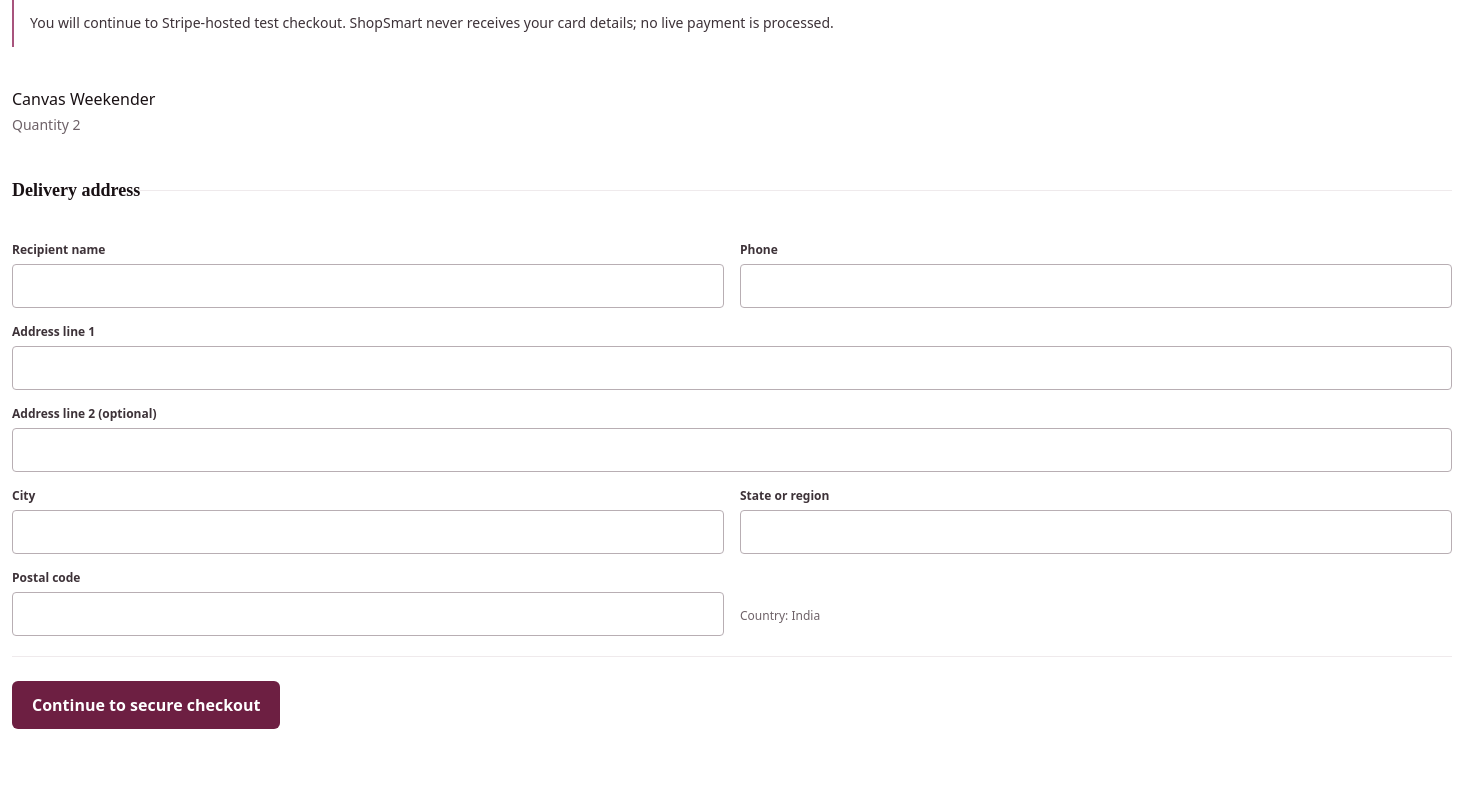
Test: CheckoutForm › shows checkout failures and allows retrying
Type "Portfolio Shopper" into the field labelled "Recipient name". click: x=368, y=286
box: [12,264,724,308]
Type "+91 98765 43210" into the field labelled "Phone". click: x=1096, y=286
box: [740,264,1452,308]
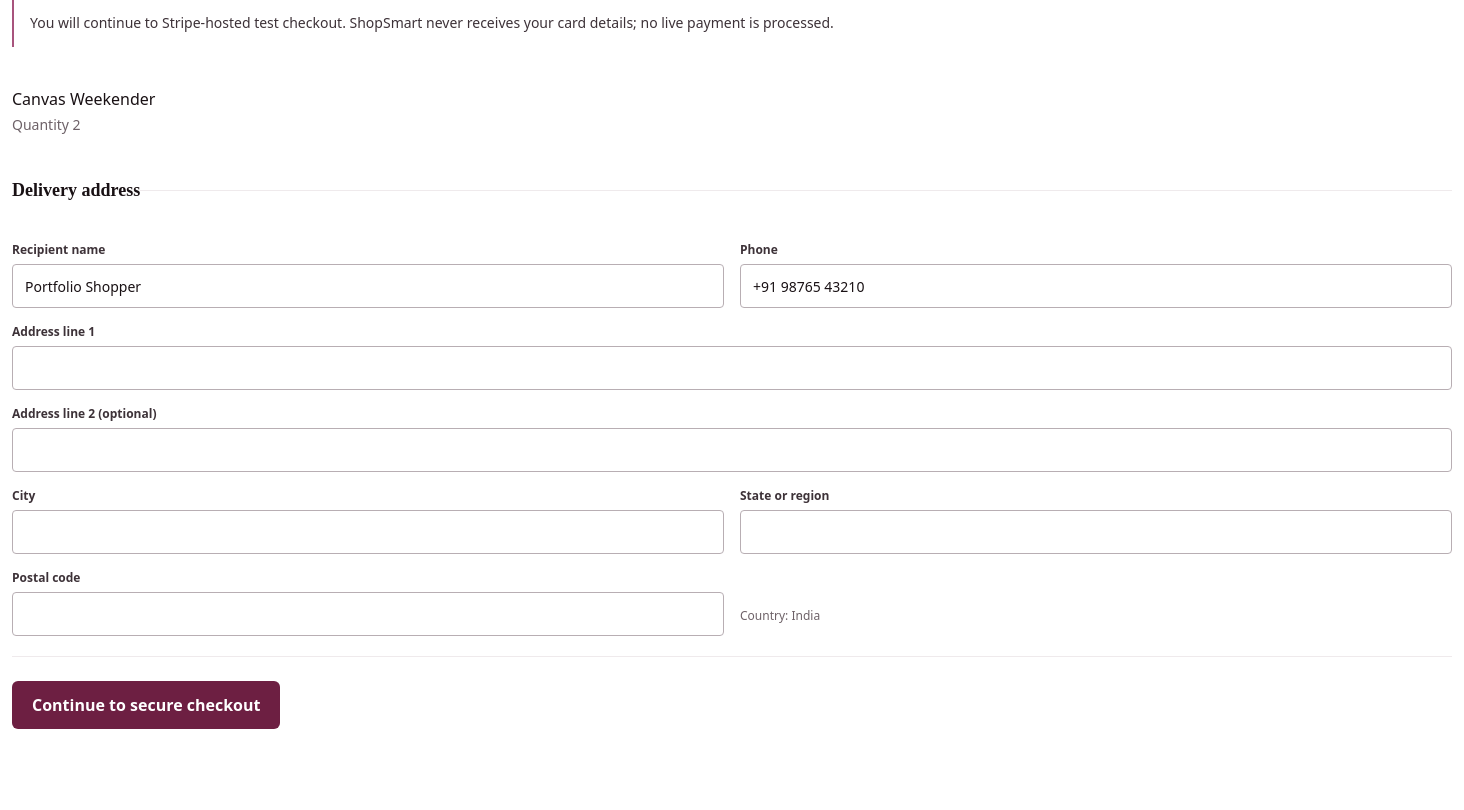
Type "12 Example Road" into the field labelled "Address line 1". click: x=732, y=368
box: [12,346,1452,390]
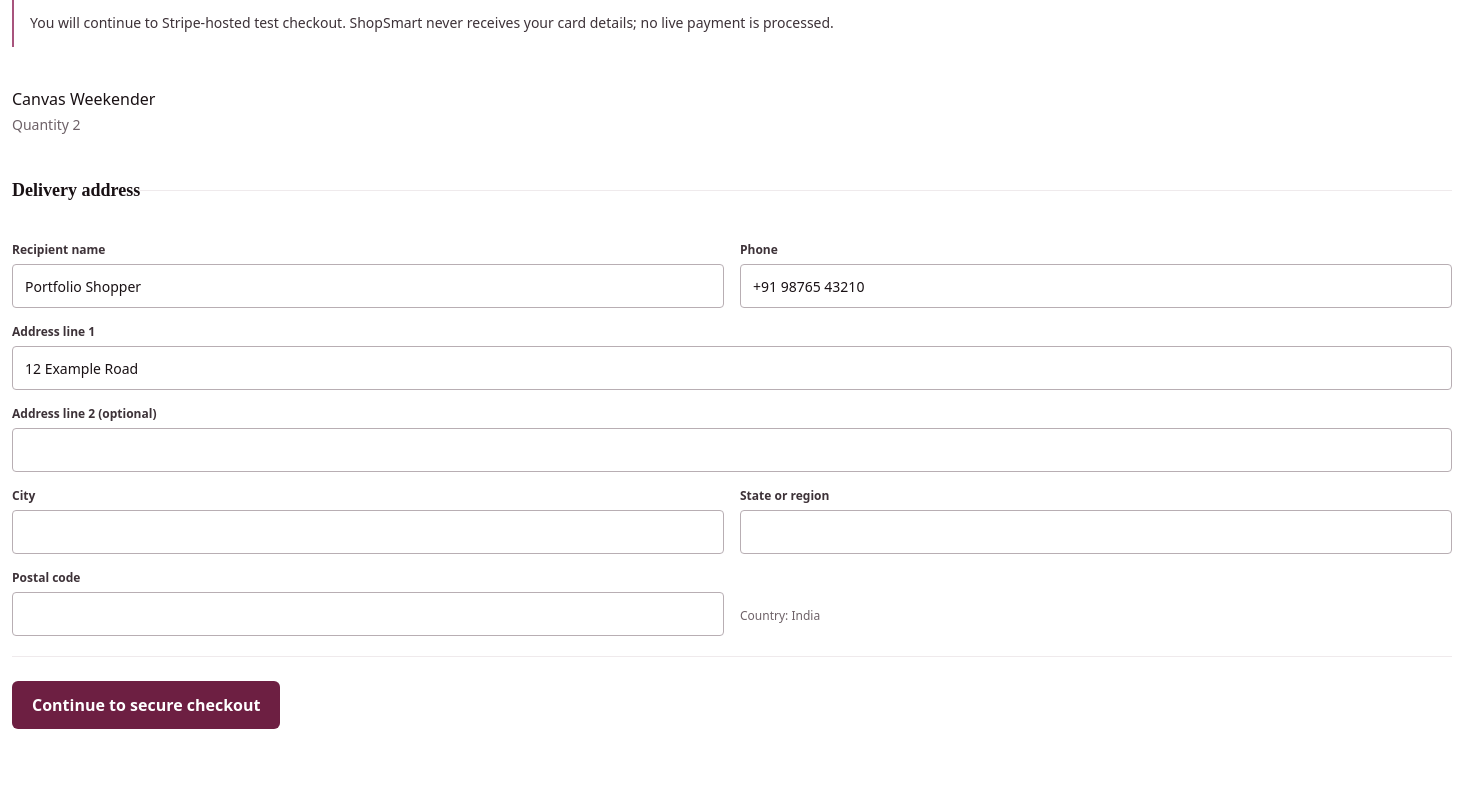
Type "Bengaluru" into the field labelled "City". click: x=368, y=532
box: [12,510,724,554]
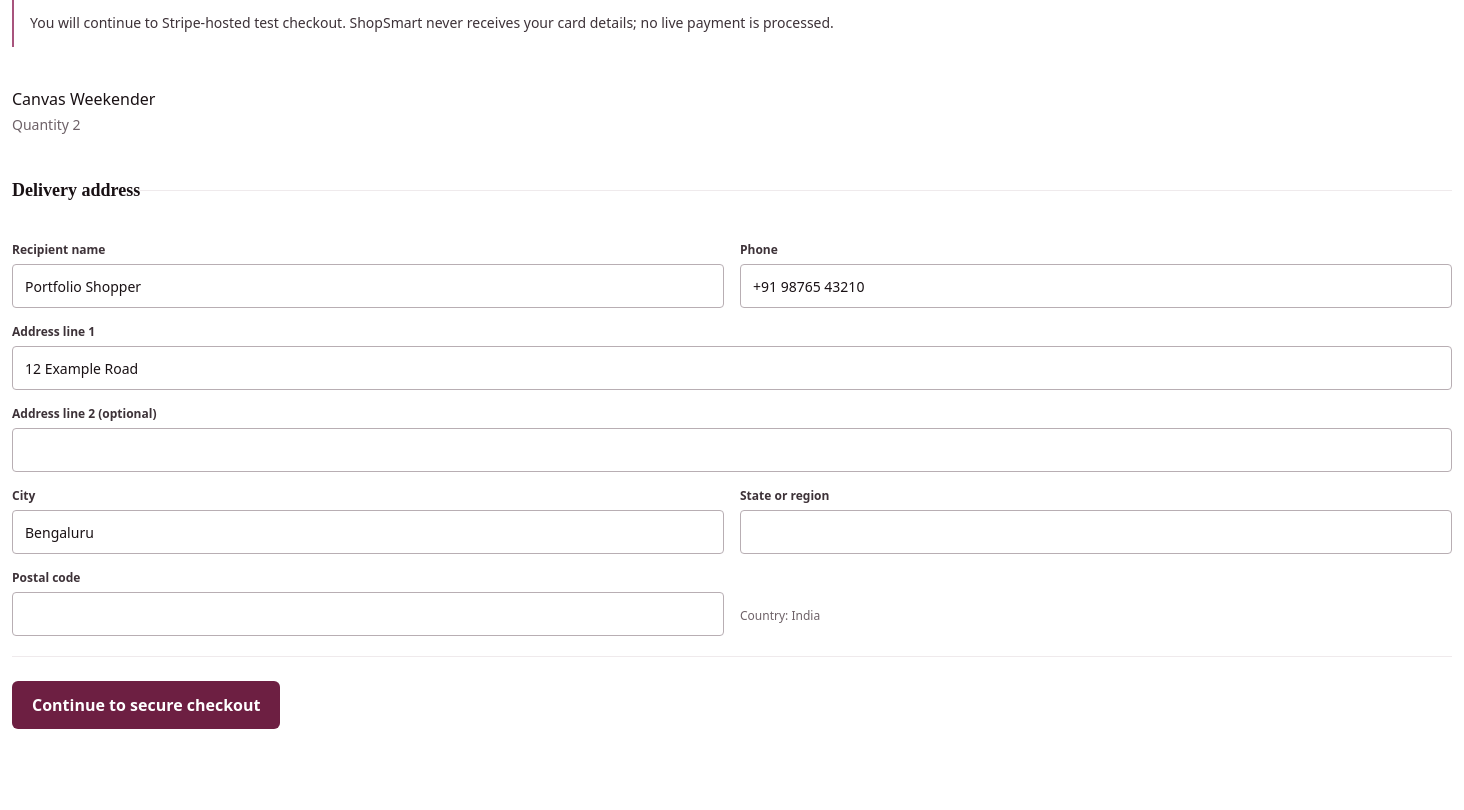
Type "Karnataka" into the field labelled "State or region". click: x=1096, y=532
box: [740,510,1452,554]
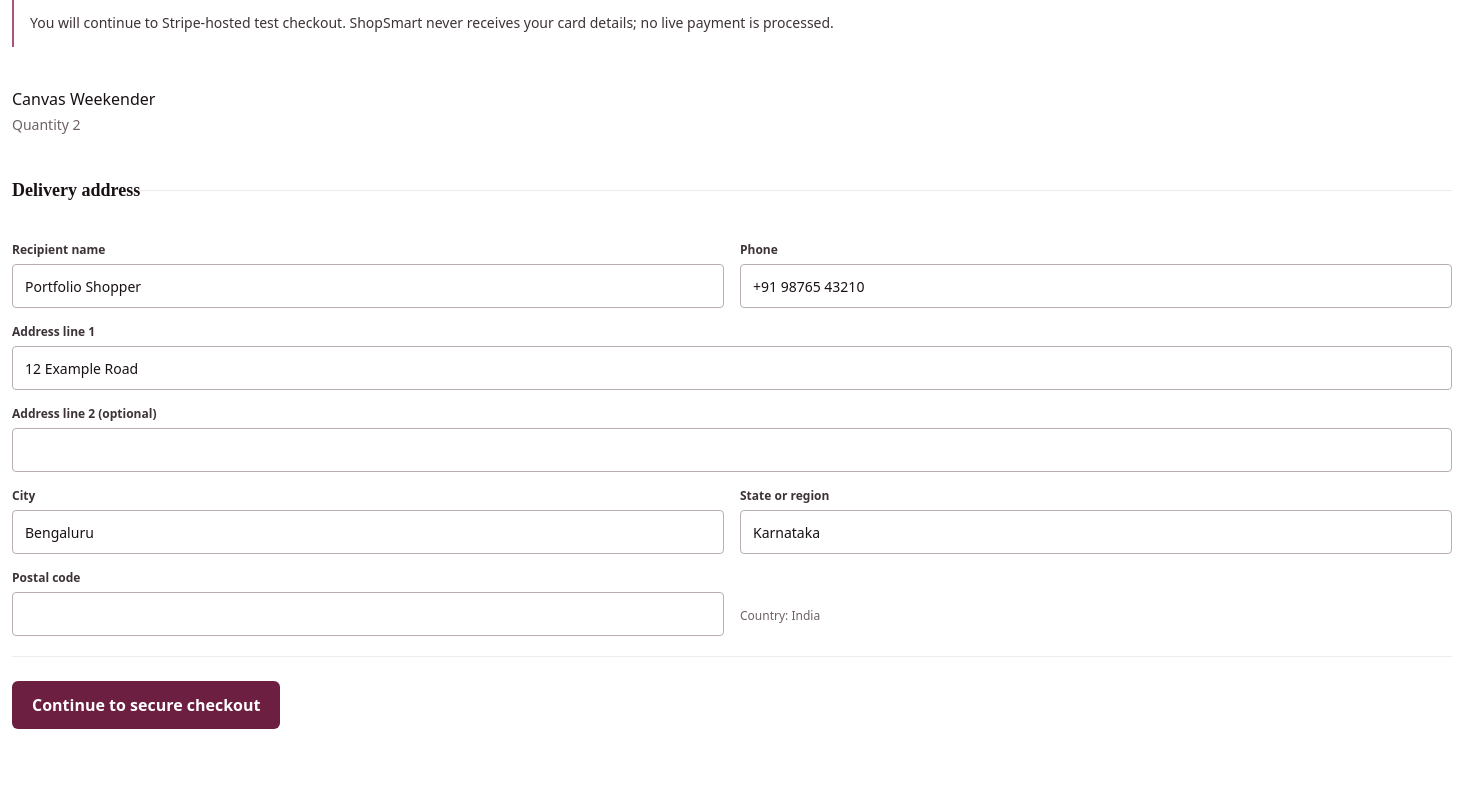
Type "560001" into the field labelled "Postal code". click: x=368, y=614
box: [12,592,724,636]
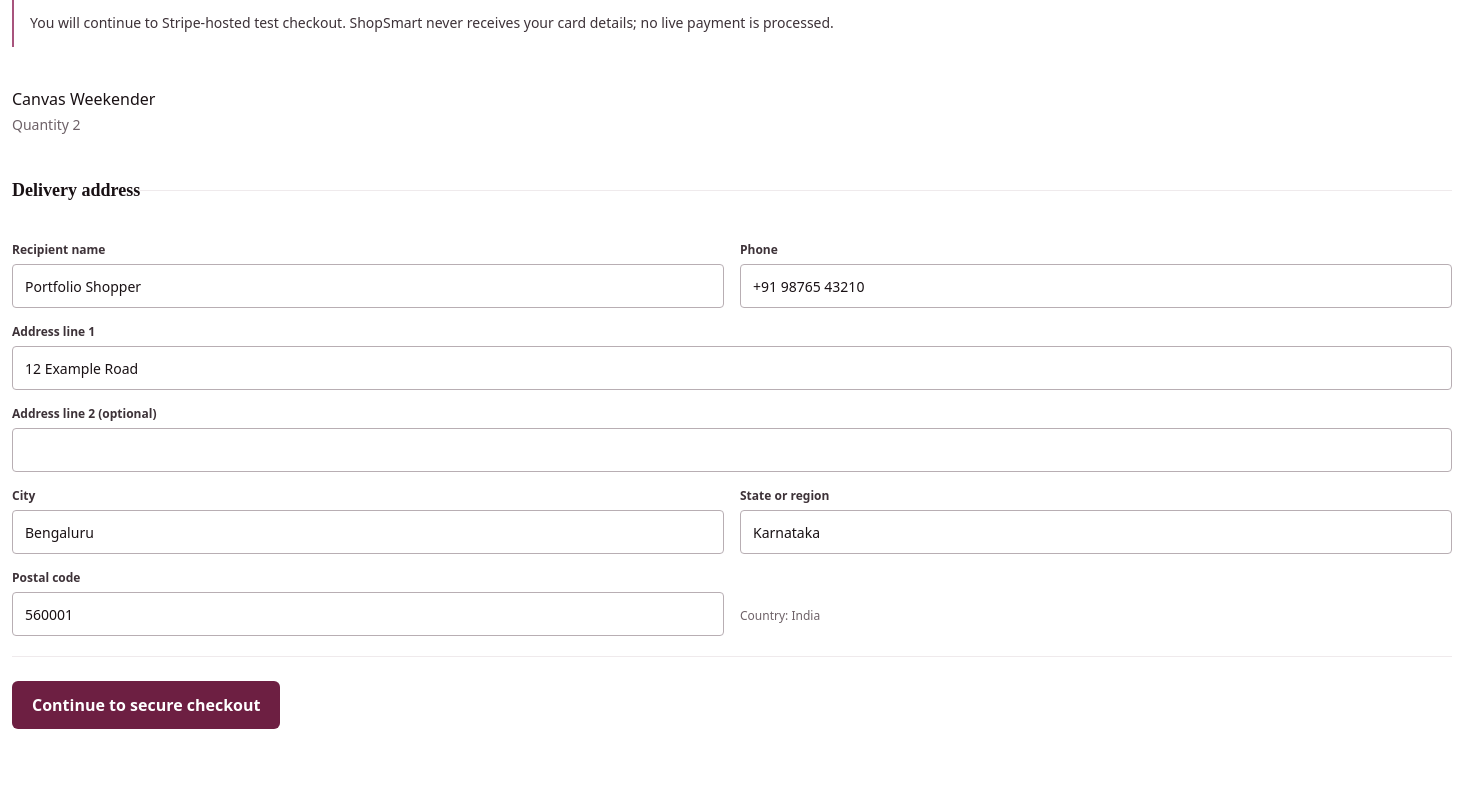
Click the button "Continue to secure checkout". click: x=146, y=705
box: [12,681,280,729]
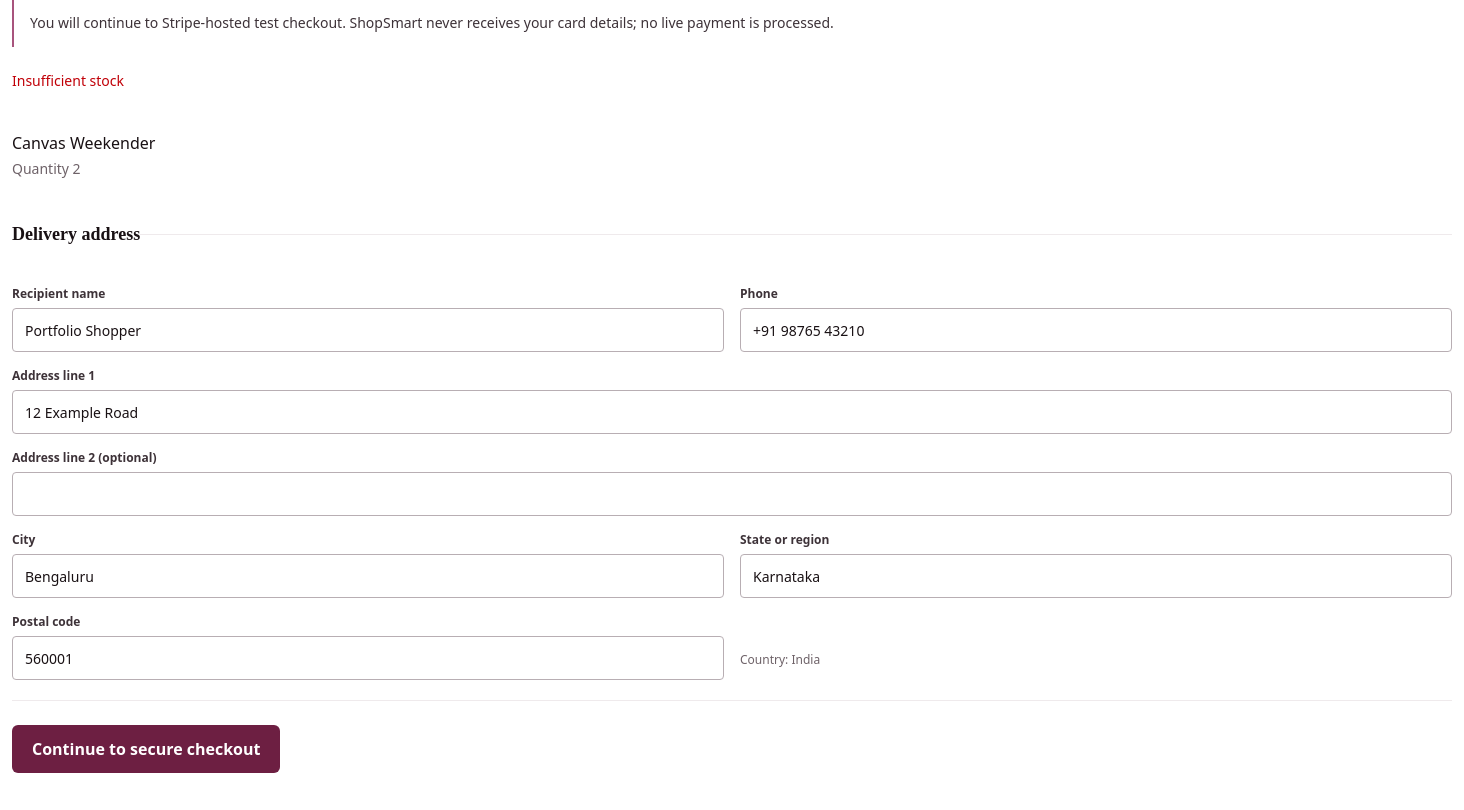
Expected: the button "Continue to secure checkout" is enabled, [12,725,280,773]
Result: the message reads "Insufficient stock" at [12,71,124,90]
